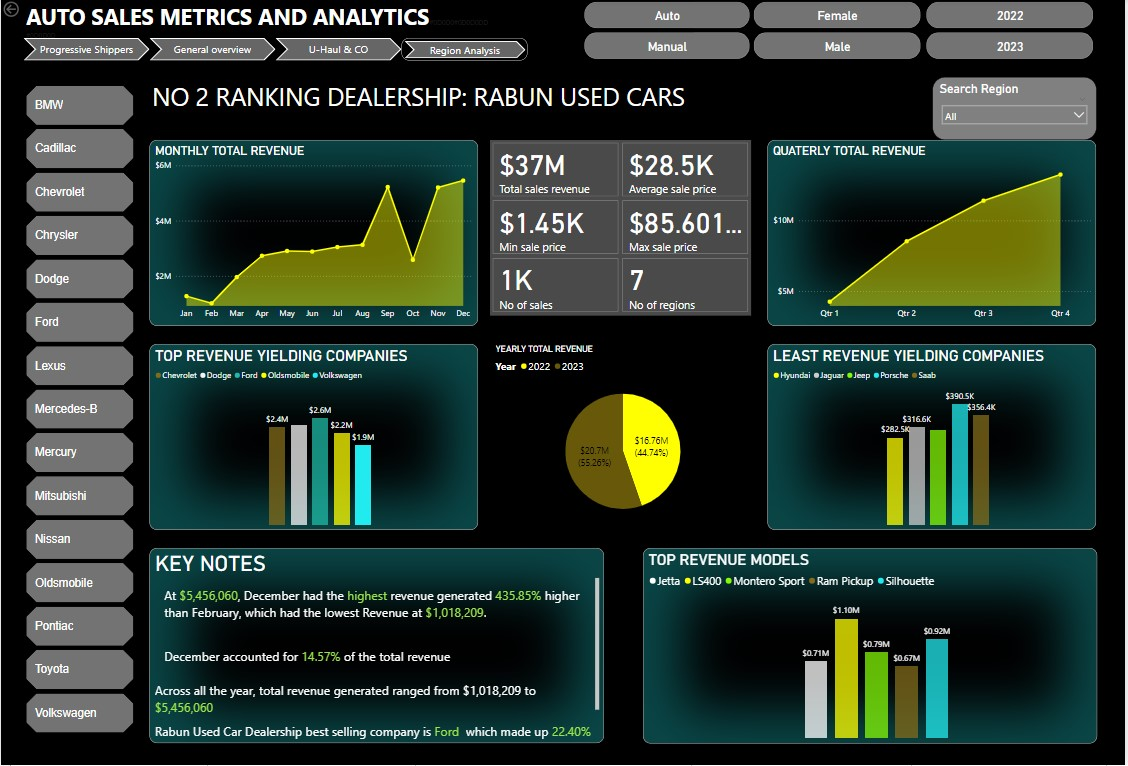

What the dashboard file says about the page in this screenshot:
{"tool":"powerbi","page":{"name":"RABUN USED CARS","canvas":[2200,1500],"ordinal":3},"visuals":[{"type":"areaChart","title":"MONTHLY TOTAL REVENUE","fields":{"Y":["Sum(CAR_SALES.Price)"],"Category":["CAR_SALES.Month"]},"box":[290.8,276.1,643.3,364.2],"z":0},{"type":"textbox","box":[44.1,0,957.6,96.9],"z":1000},{"type":"advancedSlicerVisual","fields":{"Values":["CAR_SALES.Company"]},"box":[45.4,165.5,220.6,1291.4],"z":2000},{"type":"actionButton","box":[43.9,76.8,246.7,43.9],"z":3000},{"type":"actionButton","box":[290.6,76.8,246.7,43.9],"z":4000},{"type":"actionButton","box":[537.3,76.8,246.7,43.9],"z":5000},{"type":"actionButton","box":[784.1,76.8,246.7,43.9],"z":6000},{"type":"pieChart","title":"YEARLY TOTAL REVENUE","fields":{"Y":["Sum(CAR_SALES.Price)"],"Category":["CAR_SALES.Date.Variation.Date Hierarchy.Year"]},"box":[963.5,675.6,508.2,364.2],"z":7000},{"type":"advancedSlicerVisual","fields":{"Values":["CAR_SALES.Date.Variation.Date Hierarchy.Year"]},"box":[1806.5,0,337.8,123.4],"z":8000},{"type":"advancedSlicerVisual","fields":{"Values":["CAR_SALES.Gender"]},"box":[1468.7,0,337.8,123.4],"z":9000},{"type":"advancedSlicerVisual","fields":{"Values":["CAR_SALES.Transmission"]},"box":[1136.8,0,334.9,123.4],"z":10000},{"type":"cardVisual","fields":{"Data":["Sum(CAR_SALES.Price)","Avg(CAR_SALES.Price)","Min(CAR_SALES.Price)","Max(CAR_SALES.Price)","CountNonNull(CAR_SALES.Price)","Count(CAR_SALES.Dealer_Region)"]},"box":[957.6,276.1,511.1,343.7],"z":11000},{"type":"clusteredColumnChart","title":"TOP REVENUE YIELDING COMPANIES","fields":{"Category":["CAR_SALES.Dealer_Name"],"Y":["Sum(CAR_SALES.Price)"],"Series":["CAR_SALES.Company"]},"box":[290.8,675.6,643.3,364.2],"z":12000},{"type":"areaChart","title":"QUATERLY TOTAL REVENUE","fields":{"Y":["Sum(CAR_SALES.Price)"],"Category":["CAR_SALES.Date.Variation.Date Hierarchy.Quarter"]},"box":[1501,276.1,643.3,364.2],"z":13000},{"type":"clusteredColumnChart","title":"LEAST REVENUE YIELDING COMPANIES","fields":{"Category":["CAR_SALES.Dealer_Name"],"Y":["Sum(CAR_SALES.Price)"],"Series":["CAR_SALES.Company"]},"box":[1501,675.6,643.3,364.2],"z":14000},{"type":"textbox","box":[292,152.5,1061.1,123.3],"z":15000},{"type":"textbox","title":"KEY NOTES","box":[290.8,1075.1,890,381.9],"z":16000},{"type":"clusteredColumnChart","title":"TOP REVENUE  MODELS","fields":{"Category":["CAR_SALES.Dealer_Name"],"Y":["Sum(CAR_SALES.Price)"],"Series":["CAR_SALES.Model"]},"box":[1255.8,1074,889.1,382.9],"z":17000},{"type":"slicer","title":"Search Region","fields":{"Values":["CAR_SALES.Dealer_Region"]},"box":[1823.6,152.5,321.2,123.3],"z":18000},{"type":"actionButton","box":[0,0,100,40],"z":20000}]}

Visuals, with their boxes in screenshot pixels (x1, y1, x2, y2), scaled from the page's 2200x1500 canvas onto the 1128x766 screenshot:
"MONTHLY TOTAL REVENUE" areaChart: rect(149, 141, 479, 327)
textbox: rect(23, 0, 514, 49)
advancedSlicerVisual - CAR_SALES.Company: rect(23, 85, 136, 744)
actionButton: rect(23, 39, 149, 62)
actionButton: rect(149, 39, 275, 62)
actionButton: rect(275, 39, 402, 62)
actionButton: rect(402, 39, 529, 62)
"YEARLY TOTAL REVENUE" pieChart: rect(494, 345, 755, 531)
advancedSlicerVisual - CAR_SALES.Date.Variation.Date Hierarchy.Year: rect(926, 0, 1099, 63)
advancedSlicerVisual - CAR_SALES.Gender: rect(753, 0, 926, 63)
advancedSlicerVisual - CAR_SALES.Transmission: rect(583, 0, 755, 63)
cardVisual - Sum(CAR_SALES.Price) x Avg(CAR_SALES.Price): rect(491, 141, 753, 317)
"TOP REVENUE YIELDING COMPANIES" clusteredColumnChart: rect(149, 345, 479, 531)
"QUATERLY TOTAL REVENUE" areaChart: rect(770, 141, 1099, 327)
"LEAST REVENUE YIELDING COMPANIES" clusteredColumnChart: rect(770, 345, 1099, 531)
textbox: rect(150, 78, 694, 141)
"KEY NOTES" textbox: rect(149, 549, 605, 744)
"TOP REVENUE  MODELS" clusteredColumnChart: rect(644, 548, 1100, 744)
"Search Region" slicer: rect(935, 78, 1100, 141)
actionButton: rect(0, 0, 51, 20)
